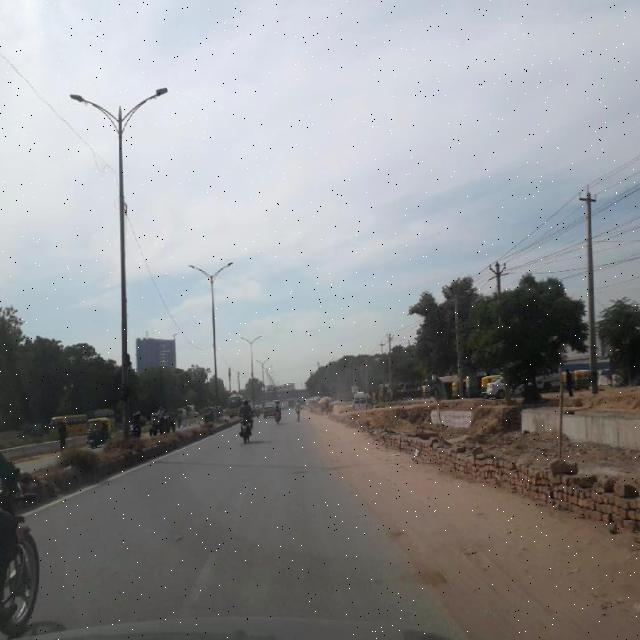D44: (182, 508, 238, 614)
